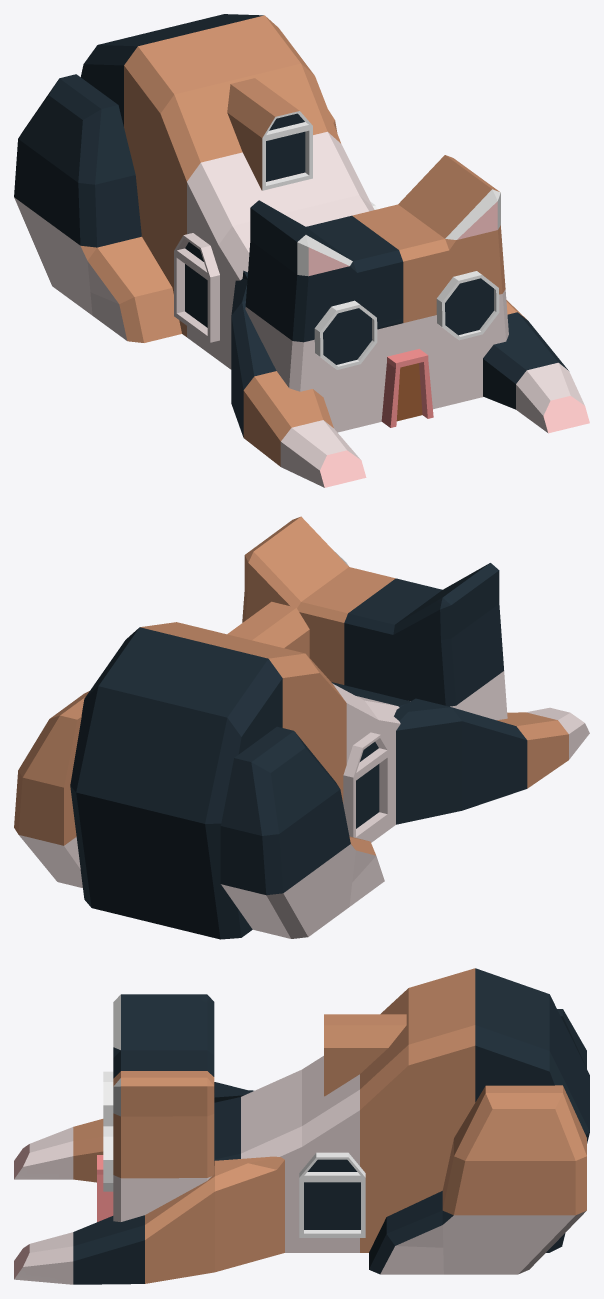
Rendered from Cat_House.fbx.
The picture shows the model from 3 angles, top to bottom: view 1: azimuth 30°, elevation 25°; view 2: azimuth 150°, elevation 25°; view 3: azimuth 270°, elevation 25°; orthographic projection. The views are drawn at different scales.
Parts seen in each view (by area): view 1: Cat_House; view 2: Cat_House; view 3: Cat_House.
Part boxes in pixels (x1,y1,x2,y2): Cat_House: [14, 14, 589, 487]; Cat_House: [14, 516, 589, 939]; Cat_House: [14, 968, 589, 1284].
Bounding box in the file's own units: 109 × 205 × 87.52.
